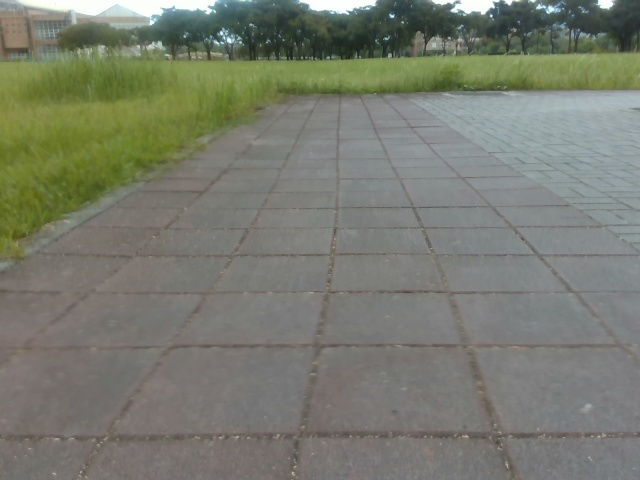grass: (0, 24, 639, 270), (119, 0, 639, 60)
road: (0, 93, 639, 479)
